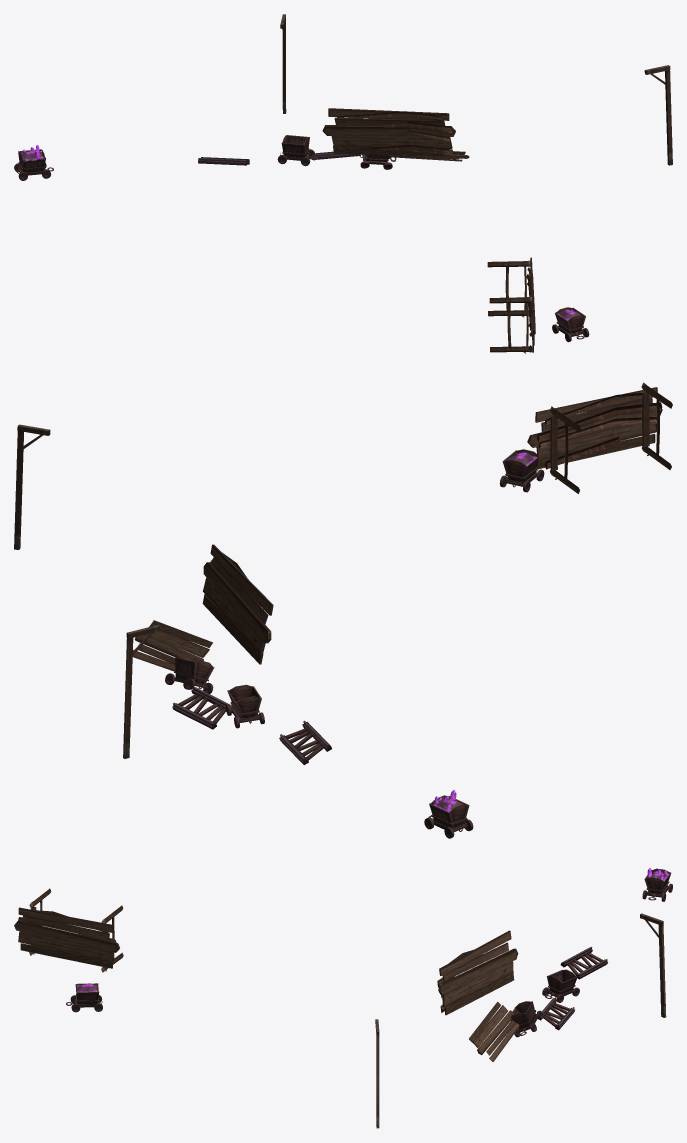
Rendered from area_09_shuijing.FBX.
3 views of the same model, one above another, from view 1: azimuth 30°, elevation 25°; view 2: azimuth 150°, elevation 25°; view 3: azimuth 270°, elevation 25° (orthographic). The views are drawn at different scales.
Parts seen in each view (by area): view 1: area_09_shuijing; view 2: area_09_shuijing; view 3: area_09_shuijing.
Boxes of the visible parts, <box> form: area_09_shuijing: <box>14,14,672,353</box>; area_09_shuijing: <box>14,382,672,838</box>; area_09_shuijing: <box>14,868,672,1128</box>.
Size of the model in its own units: 4454 by 904 by 5208.
